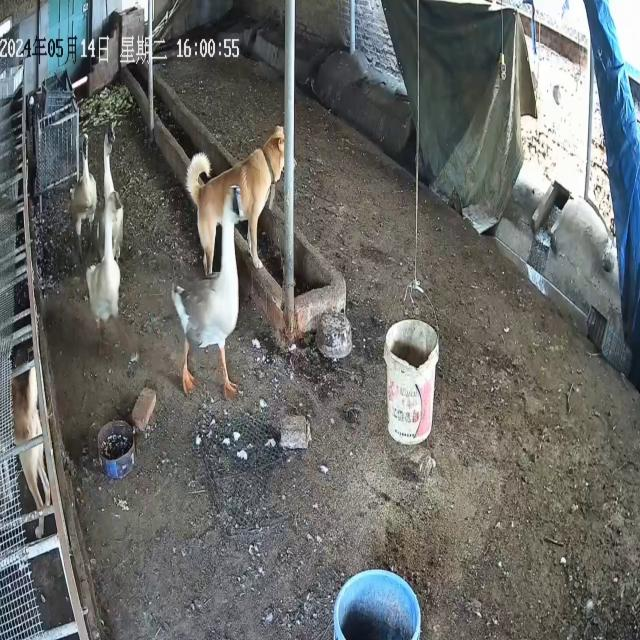dog: (186, 125, 297, 278), (12, 362, 52, 516)
